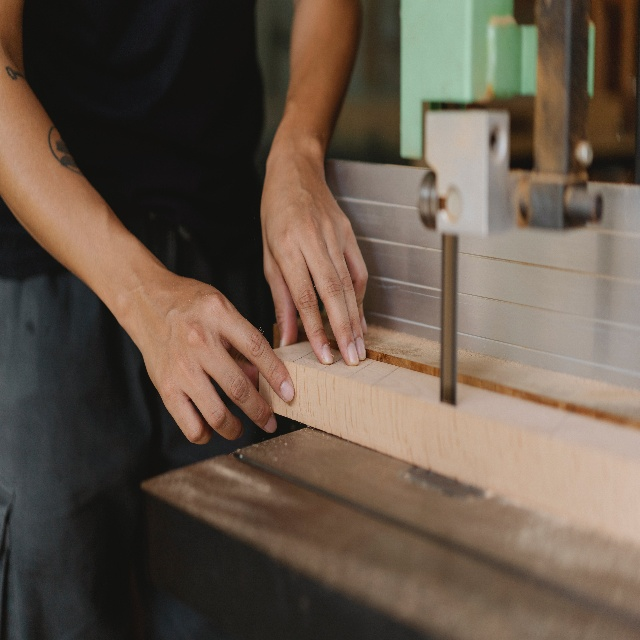Sin_guantes: (135, 272, 295, 446), (259, 158, 369, 367)
